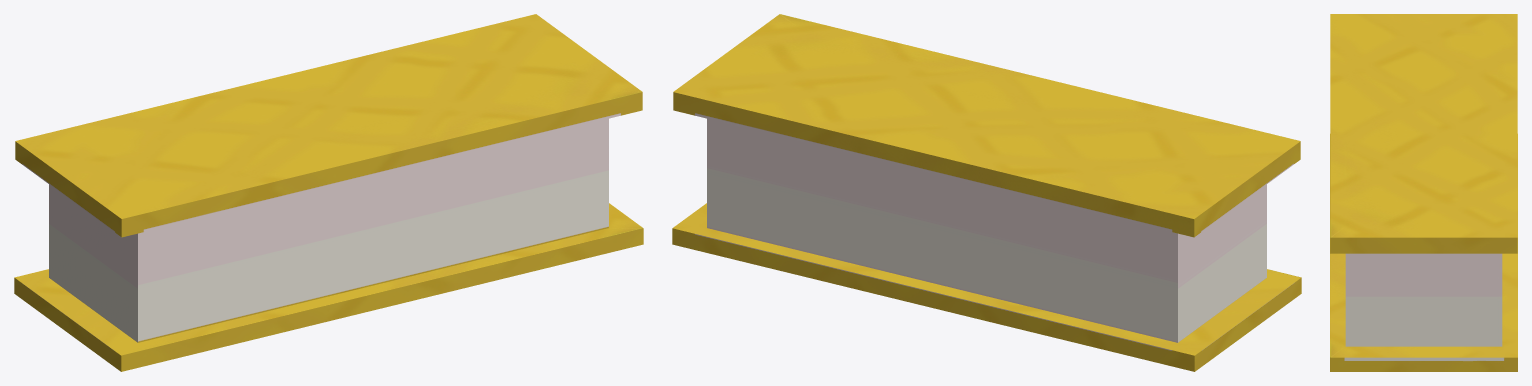
Rendered from waffer.FBX.
3 renders of one model, left to right at view 1: azimuth 30°, elevation 25°; view 2: azimuth 150°, elevation 25°; view 3: azimuth 270°, elevation 25°, orthographic. The views are drawn at different scales.
Parts seen in each view (by area): view 1: Box001; view 2: Box001; view 3: Box001.
Part boxes in pixels (box(x1,y1,x2,y2)): Box001: box(14, 14, 643, 371); Box001: box(672, 14, 1301, 371); Box001: box(1330, 14, 1517, 371).
Bounding box in the file's own units: 77.84 × 21.72 × 27.59.
